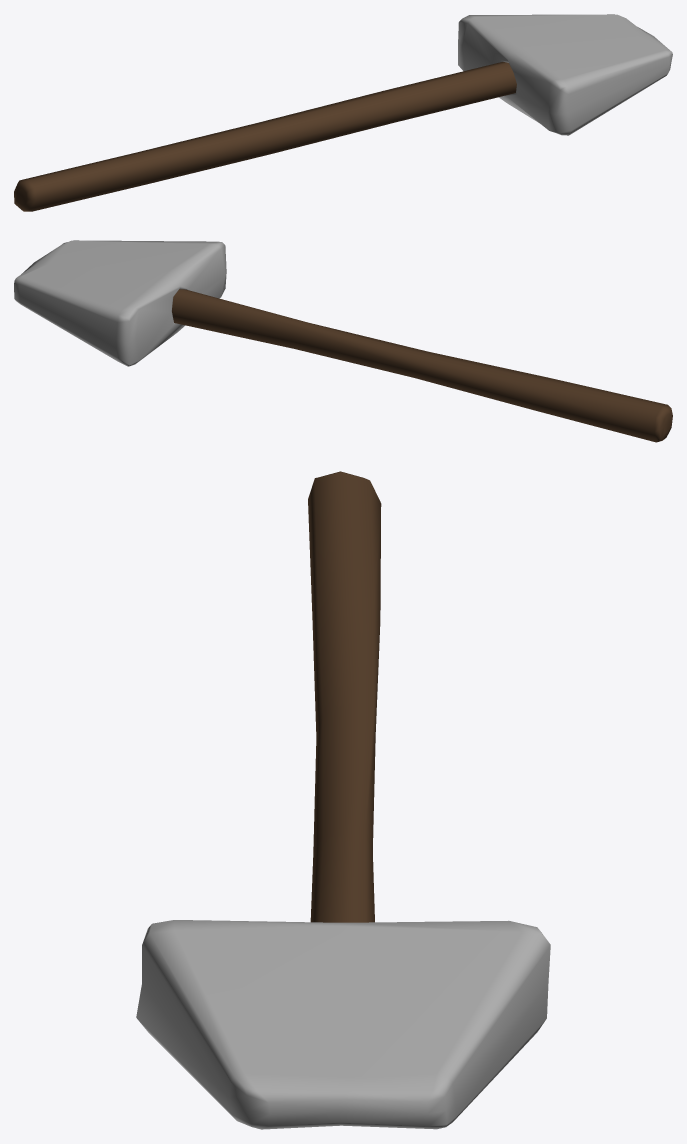
The model's file is MSH_int_Shovel.fbx.
3 renders of one model, top to bottom at view 1: azimuth 30°, elevation 25°; view 2: azimuth 150°, elevation 25°; view 3: azimuth 270°, elevation 25°, orthographic. The views are drawn at different scales.
Parts seen in each view (by area): view 1: Shovel; view 2: Shovel; view 3: Shovel.
Part boxes in pixels (x1,y1,x2,y2): Shovel: (14, 14, 672, 211); Shovel: (14, 240, 672, 442); Shovel: (136, 471, 550, 1129).
Bounding box in the file's own units: 11.52 × 0.9972 × 3.26.
